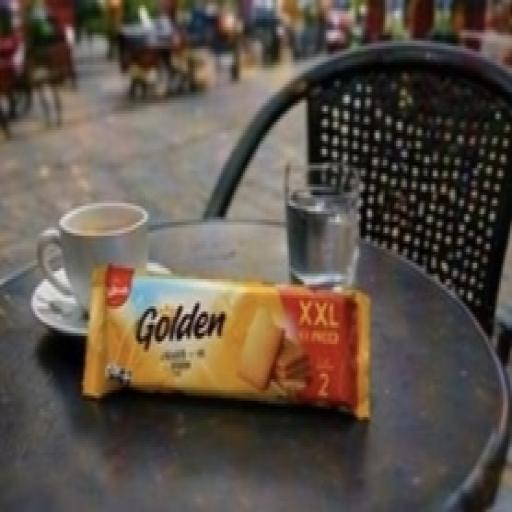golden: (76, 216, 420, 447)
